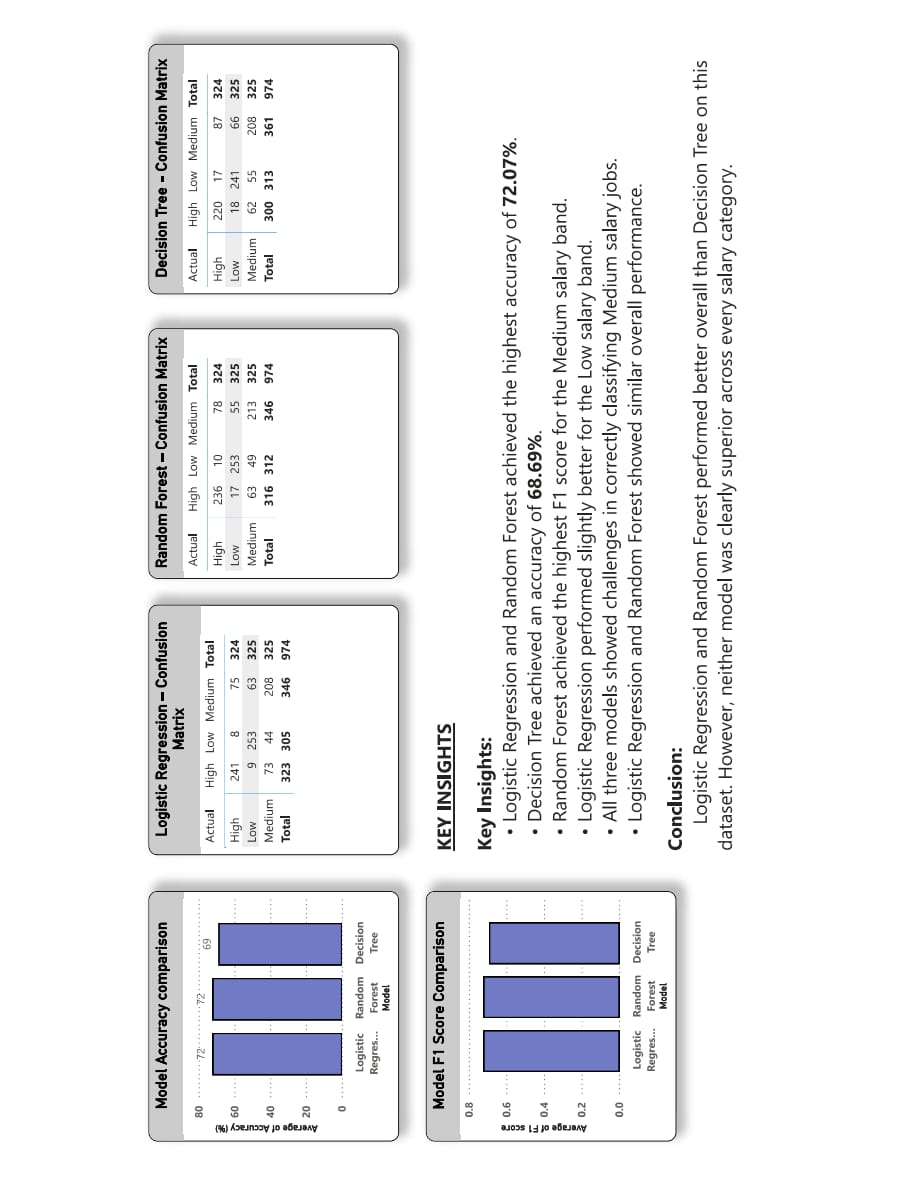

Layout of this report page (visuals, bound fields, positions):
{"tool":"powerbi","page":{"name":"Model Performance & Key Insights!","canvas":[1280,720],"ordinal":2},"visuals":[{"type":"clusteredColumnChart","title":"Model Accuracy comparison","fields":{"Category":["Model Performance.Model"],"Y":["Avg(Model Performance.Accuracy (%))"]},"box":[28.3,13.3,280,280],"z":0},{"type":"clusteredColumnChart","title":"Model F1 Score Comparison","fields":{"Category":["F1 Performance.Model"],"Y":["Avg(F1 Performance.F1 score)"]},"box":[28.3,323.3,280,280],"z":1},{"type":"pivotTable","title":"Logistic Regression – Confusion Matrix","fields":{"Rows":["Logistic Confusion Matrix.Actual"],"Columns":["Logistic Confusion Matrix.Predicted"],"Values":["Sum(Logistic Confusion Matrix.Logistic Regression)"]},"box":[348.3,13.3,280,280],"z":2},{"type":"pivotTable","title":"Decision Tree - Confusion Matrix","fields":{"Rows":["Decision tree confusion matrix.Actual"],"Columns":["Decision tree confusion matrix.Predicted"],"Values":["Sum(Decision tree confusion matrix.Decision Tree)"]},"box":[975,13.3,280,280],"z":3},{"type":"pivotTable","title":"Random Forest – Confusion Matrix","fields":{"Rows":["Random forest confusion matrix.Actual"],"Columns":["Random forest confusion matrix.Predicted"],"Values":["Sum(Random forest confusion matrix.Random Forest)"]},"box":[656.7,13.3,280,280],"z":4},{"type":"textbox","box":[348.3,323.3,906.7,385],"z":5}]}

Visuals, with their boxes on the page's 1280x720 design canvas (x1, y1, x2, y2). These are canvas units, not pixel positions in the 918x1188 screenshot, which may show the page scaled, cropped or inside an application window:
"Model Accuracy comparison" clusteredColumnChart: [x1=28, y1=13, x2=308, y2=293]
"Model F1 Score Comparison" clusteredColumnChart: [x1=28, y1=323, x2=308, y2=603]
"Logistic Regression – Confusion Matrix" pivotTable: [x1=348, y1=13, x2=628, y2=293]
"Decision Tree - Confusion Matrix" pivotTable: [x1=975, y1=13, x2=1255, y2=293]
"Random Forest – Confusion Matrix" pivotTable: [x1=657, y1=13, x2=937, y2=293]
textbox: [x1=348, y1=323, x2=1255, y2=708]
